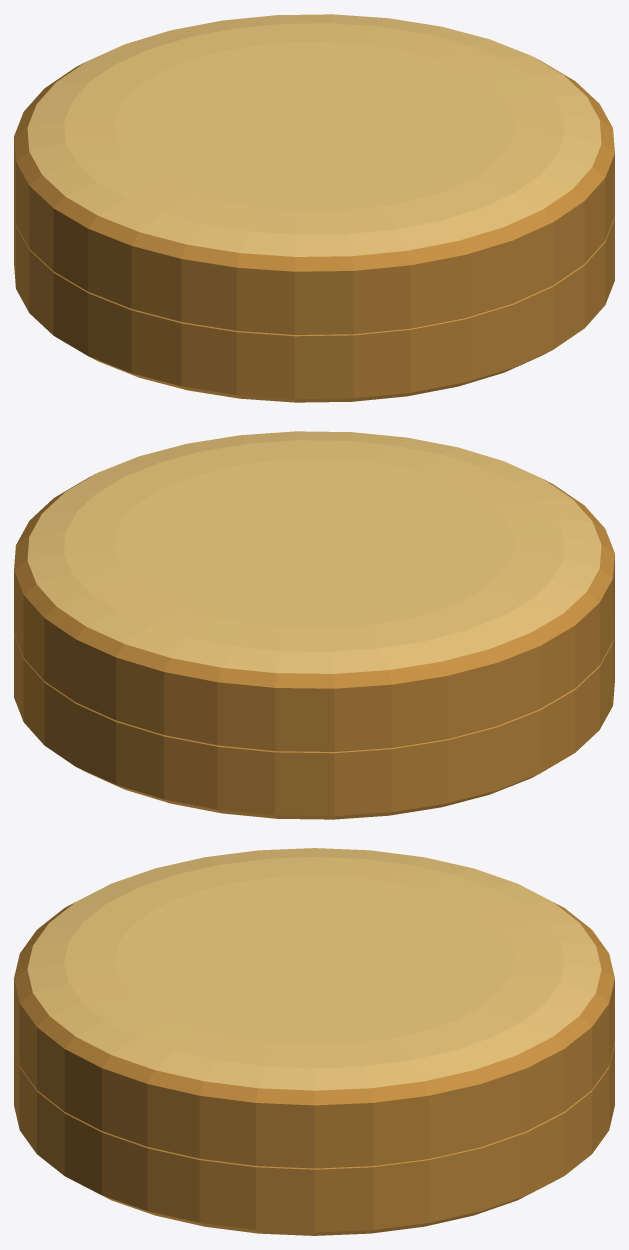
File: bottomBun.glb
3 renders of one model, top to bottom at view 1: azimuth 30°, elevation 25°; view 2: azimuth 150°, elevation 25°; view 3: azimuth 270°, elevation 25°, orthographic.
Parts seen in each view (by area): view 1: Cylinder.001, Cylinder; view 2: Cylinder.001, Cylinder; view 3: Cylinder.001, Cylinder.
Boxes of the visible parts, x1,y1,x2,y2 form: Cylinder.001: [14, 14, 614, 334]; Cylinder: [14, 202, 614, 402]; Cylinder.001: [14, 431, 614, 751]; Cylinder: [14, 619, 614, 819]; Cylinder.001: [14, 848, 614, 1168]; Cylinder: [14, 1042, 614, 1235].
Bounding box in the file's own units: 2 × 0.6 × 2.
